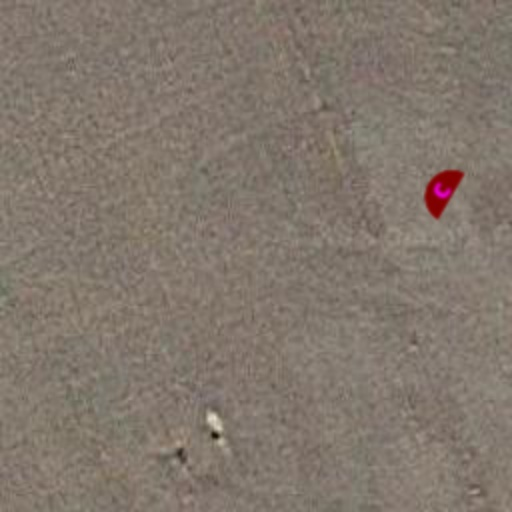semicircle: (402, 152, 478, 228)
